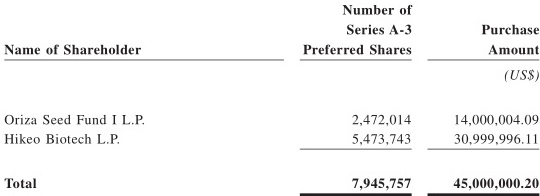column: (3, 1, 144, 196), (303, 1, 412, 196), (453, 2, 540, 196)
row: (1, 176, 540, 190), (1, 4, 540, 17), (1, 114, 540, 127), (1, 133, 540, 146), (3, 24, 539, 36), (1, 44, 540, 55)
